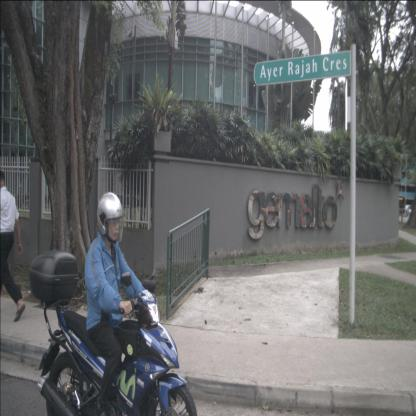human-pedestrian-adult: (0, 169, 25, 322)
vehicle-motorcycle: (29, 192, 198, 416)
